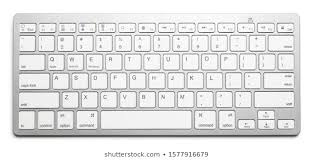keyboard: (4, 10, 310, 142)
